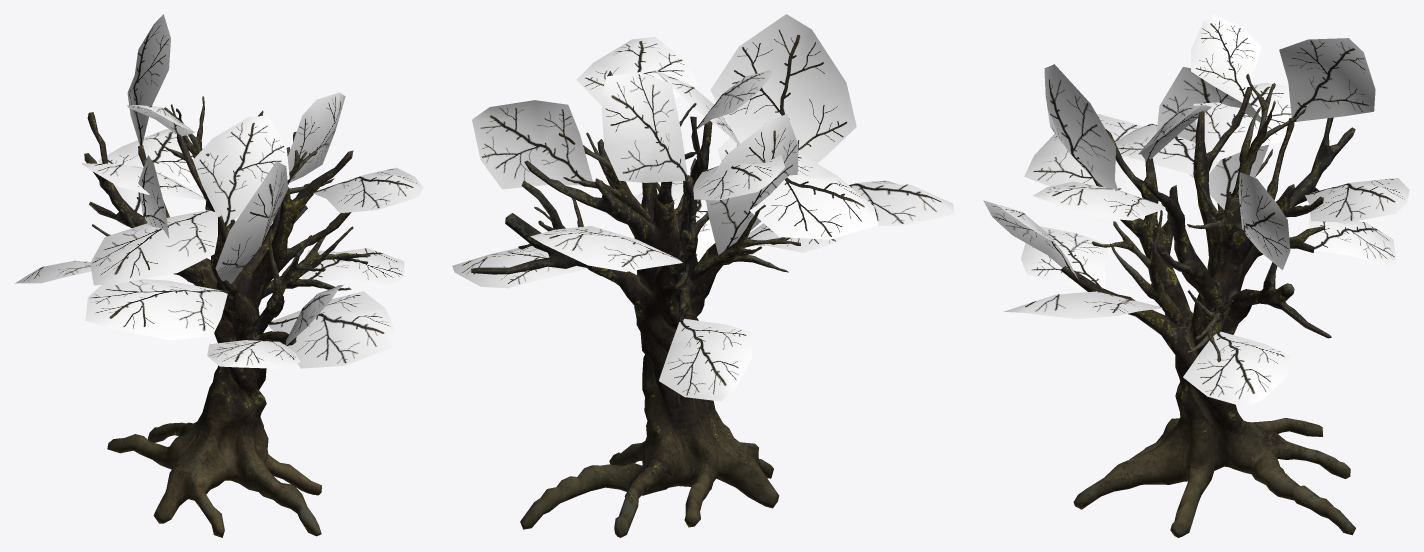
Rendered from tree.fbx.
The picture shows the model from 3 angles, left to right: view 1: azimuth 30°, elevation 25°; view 2: azimuth 150°, elevation 25°; view 3: azimuth 270°, elevation 25°; orthographic projection. The views are drawn at different scales.
Visible parts, largest first — view 1: tree2; view 2: tree2; view 3: tree2.
Boxes of the visible parts, <box> form: tree2: <box>15,14,423,537</box>; tree2: <box>452,14,954,537</box>; tree2: <box>983,14,1409,537</box>.
Bounding box in the file's own units: 490 × 526 × 440.
2 materials, 2 textured.
